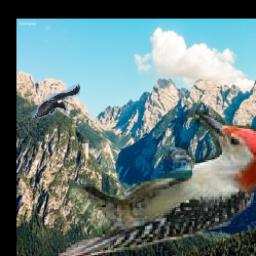Crow: (31, 83, 80, 118)
Woodpecker: (59, 111, 256, 256)
